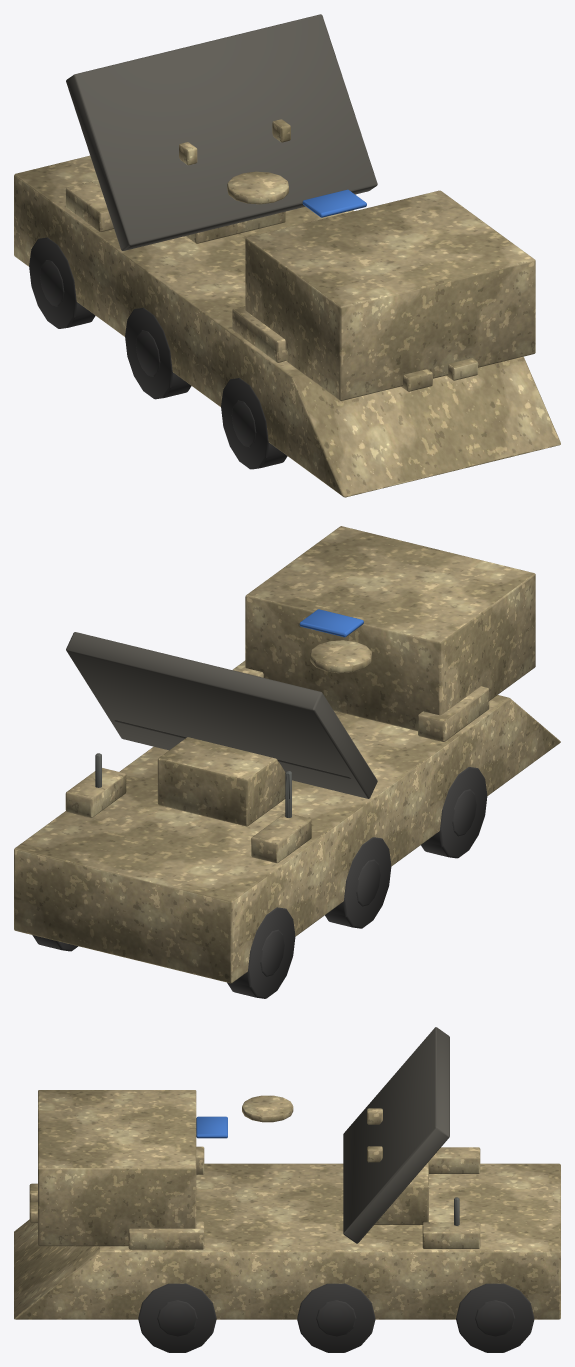
File: rad_e4_us_counterbty_LOD0.glb
The picture shows the model from 3 angles, top to bottom: view 1: azimuth 30°, elevation 25°; view 2: azimuth 150°, elevation 25°; view 3: azimuth 270°, elevation 25°; orthographic projection. The views are drawn at different scales.
Parts seen in each view (by area): view 1: rad_e4_us_counterbty_LOD0_body, rad_e4_us_counterbty_LOD0_deck, rad_e4_us_counterbty_LOD0_track, rad_e4_us_counterbty_LOD0_team; view 2: rad_e4_us_counterbty_LOD0_body, rad_e4_us_counterbty_LOD0_deck, rad_e4_us_counterbty_LOD0_track, rad_e4_us_counterbty_LOD0_team; view 3: rad_e4_us_counterbty_LOD0_body, rad_e4_us_counterbty_LOD0_track, rad_e4_us_counterbty_LOD0_deck, rad_e4_us_counterbty_LOD0_team.
Boxes of the visible parts, left/top/right/bottom form: rad_e4_us_counterbty_LOD0_body: left=14, top=119, right=560, bottom=497; rad_e4_us_counterbty_LOD0_deck: left=66, top=14, right=377, bottom=250; rad_e4_us_counterbty_LOD0_track: left=29, top=237, right=287, bottom=469; rad_e4_us_counterbty_LOD0_team: left=302, top=189, right=366, bottom=217; rad_e4_us_counterbty_LOD0_body: left=14, top=526, right=560, bottom=983; rad_e4_us_counterbty_LOD0_deck: left=66, top=632, right=377, bottom=798; rad_e4_us_counterbty_LOD0_track: left=32, top=767, right=487, bottom=998; rad_e4_us_counterbty_LOD0_team: left=299, top=609, right=363, bottom=637; rad_e4_us_counterbty_LOD0_body: left=14, top=1090, right=560, bottom=1319; rad_e4_us_counterbty_LOD0_track: left=138, top=1283, right=534, bottom=1352; rad_e4_us_counterbty_LOD0_deck: left=343, top=1027, right=449, bottom=1243; rad_e4_us_counterbty_LOD0_team: left=196, top=1116, right=227, bottom=1138.
Size of the model in its own units: 3.3 by 3.55 by 7.59.
5 materials, 1 textured.
